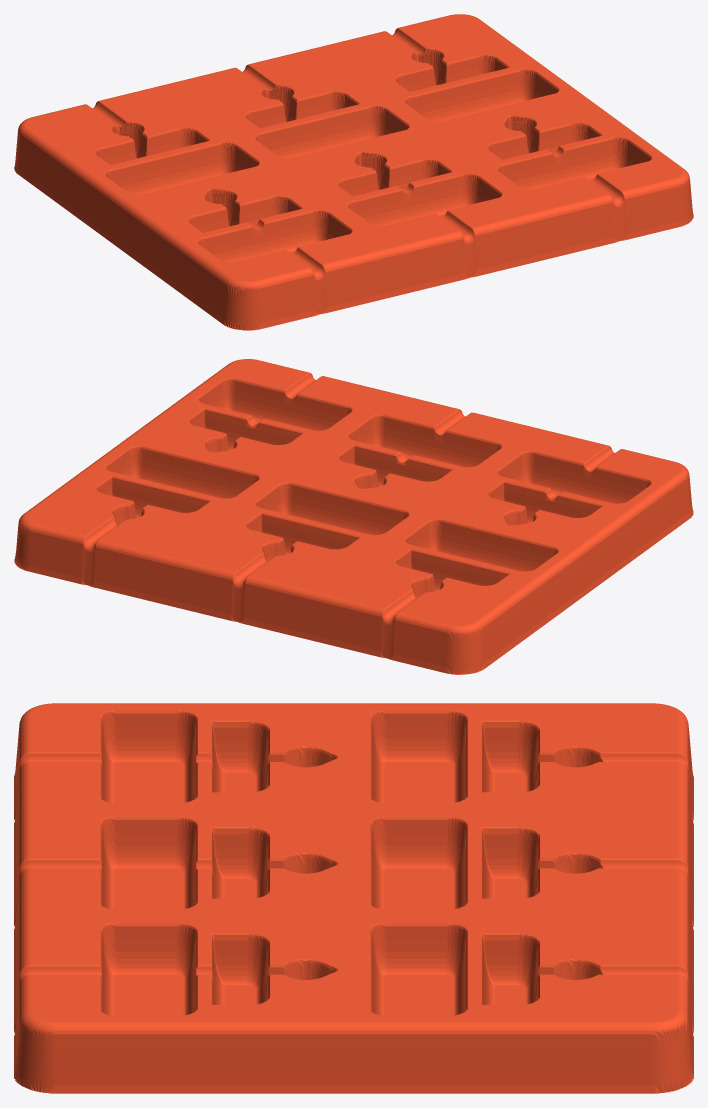
Rendered from mold.glb.
The picture shows the model from 3 angles, top to bottom: view 1: azimuth 30°, elevation 25°; view 2: azimuth 150°, elevation 25°; view 3: azimuth 270°, elevation 25°; orthographic projection. The views are drawn at different scales.
Parts seen in each view (by area): view 1: geometry_0; view 2: geometry_0; view 3: geometry_0.
Part boxes in pixels (bbox=[...]): geometry_0: bbox=[14, 14, 693, 330]; geometry_0: bbox=[14, 359, 693, 674]; geometry_0: bbox=[14, 703, 693, 1093].
Size of the model in its own units: 0.1704 by 0.0155 by 0.1477.
